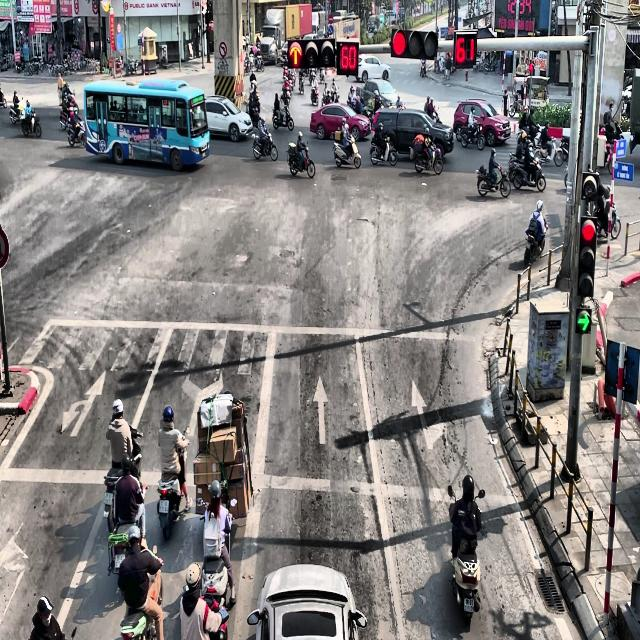BUS: (83, 78, 210, 171)
CAR: (247, 563, 367, 639), (453, 100, 511, 147), (196, 96, 253, 142), (310, 103, 371, 142), (362, 78, 402, 107), (356, 54, 391, 82)
MOTORBIKE: (447, 486, 485, 624), (120, 544, 163, 640), (156, 426, 190, 541), (107, 482, 148, 576), (103, 425, 143, 521), (512, 153, 546, 192), (476, 163, 510, 198), (414, 138, 443, 175), (524, 222, 548, 266), (286, 142, 315, 178), (595, 201, 621, 239), (333, 134, 361, 168), (370, 132, 397, 166), (252, 129, 278, 161), (460, 121, 485, 150), (66, 112, 86, 146), (272, 104, 294, 130), (21, 110, 41, 138), (9, 98, 26, 124), (555, 136, 569, 166), (508, 90, 523, 117), (310, 81, 319, 106), (322, 82, 331, 106), (330, 85, 340, 103), (298, 70, 304, 94), (255, 55, 264, 71)
TRAFFIC_LIGHT: (576, 215, 596, 298), (389, 27, 438, 59), (453, 29, 477, 68), (337, 41, 359, 75), (580, 169, 600, 201)
